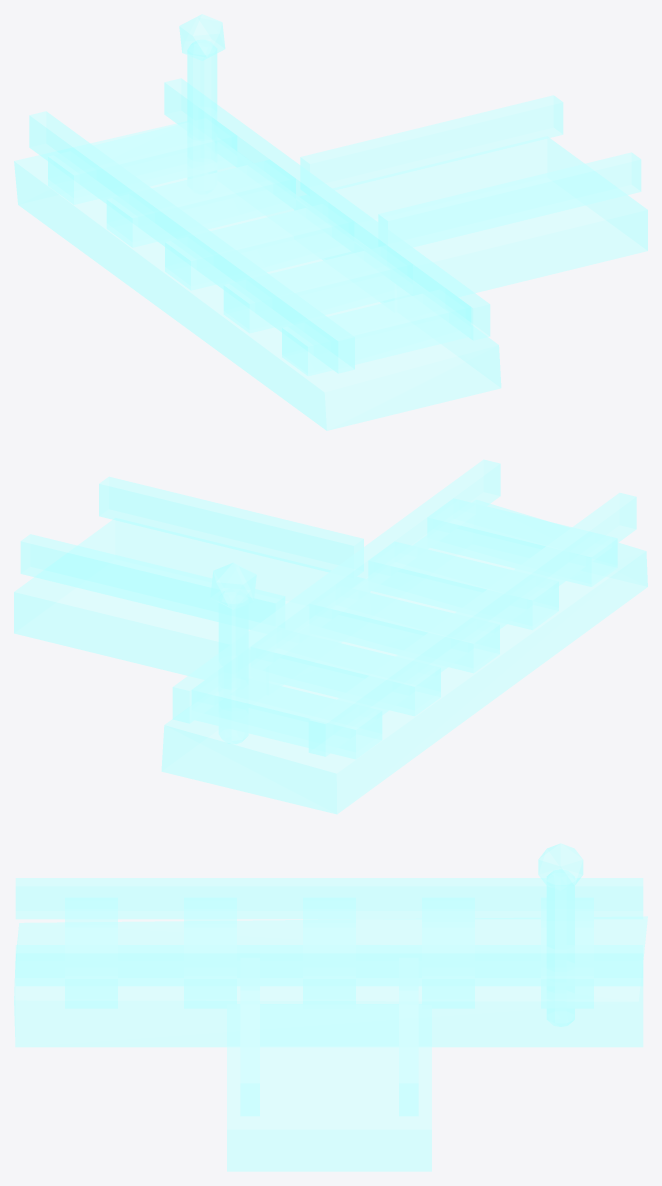
Rendered from GH_Rail_Junction.fbx.
3 views of the same model, one above another, from view 1: azimuth 30°, elevation 25°; view 2: azimuth 150°, elevation 25°; view 3: azimuth 270°, elevation 25° (orthographic).
Visible parts, largest first — view 1: SM_Rail_Junction; view 2: SM_Rail_Junction; view 3: SM_Rail_Junction.
Boxes of the visible parts, <box> form: SM_Rail_Junction: <box>14,14,647,430</box>; SM_Rail_Junction: <box>14,459,647,814</box>; SM_Rail_Junction: <box>14,843,647,1171</box>.
Size of the model in its own units: 1.52 by 0.63 by 1.92.
